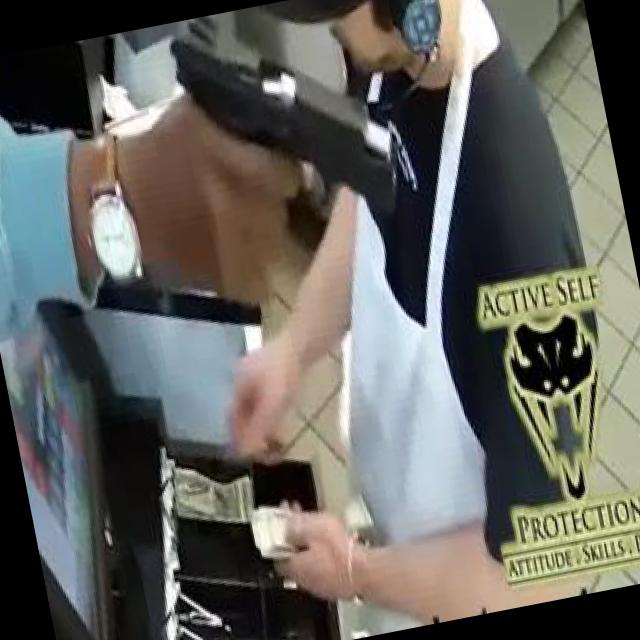Guns: (137, 0, 436, 285)
